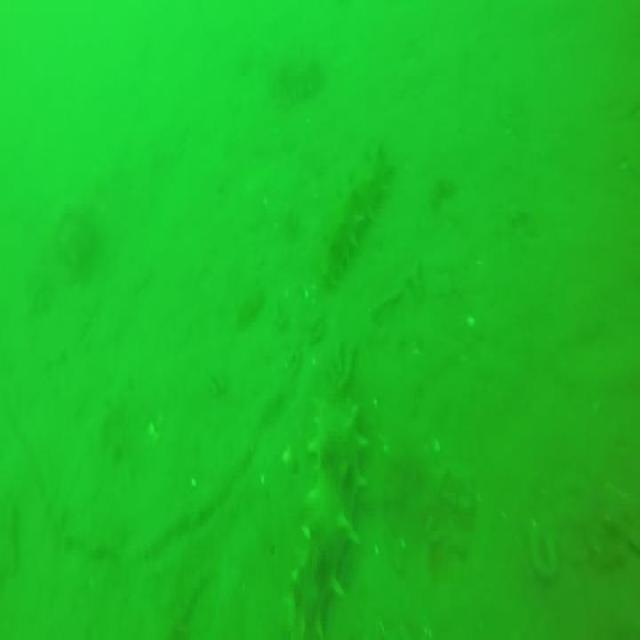holothurian: (288, 385, 362, 640), (324, 136, 396, 305), (263, 51, 321, 108)
